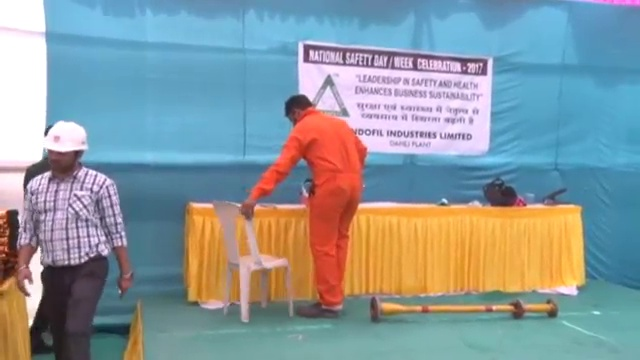helmet: (41, 119, 90, 154)
helmet_off: (282, 93, 317, 126)
helmet_on: (41, 119, 89, 181)
person: (10, 119, 135, 360), (246, 93, 368, 318)
